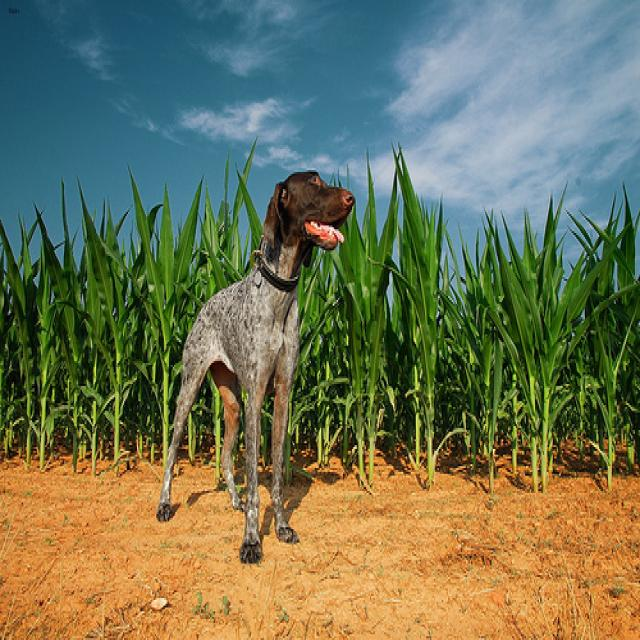dog-german_shorthaired: (150, 164, 356, 569)
